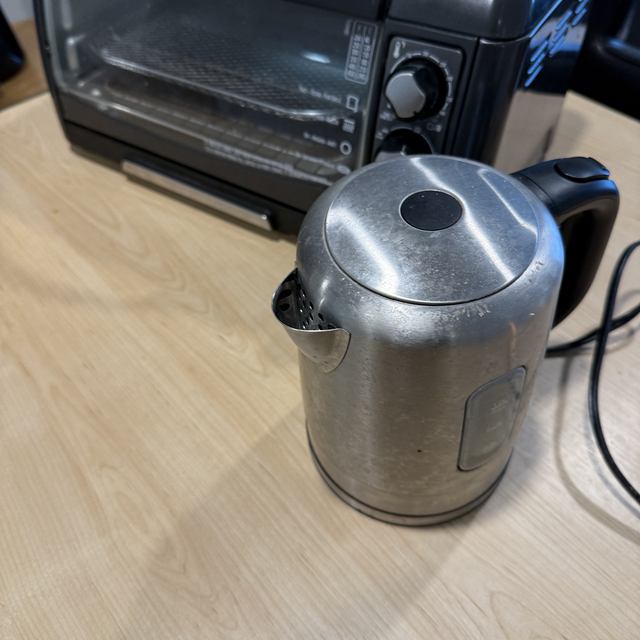Kettle: (266, 160, 571, 547)
Toaster Oven: (35, 6, 591, 239)
